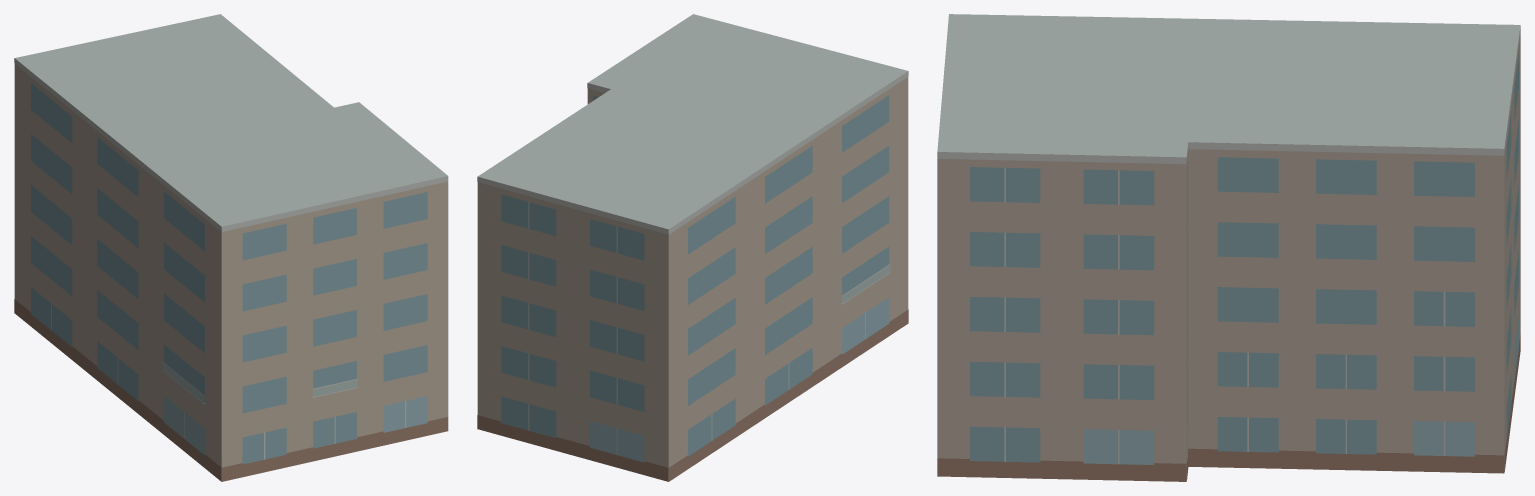
The model's file is survey-upis-32653966.glb.
3 renders of one model, left to right at view 1: azimuth 30°, elevation 25°; view 2: azimuth 150°, elevation 25°; view 3: azimuth 270°, elevation 25°, orthographic. The views are drawn at different scales.
Parts seen in each view (by area): view 1: survey-upis-32653966.tmp; view 2: survey-upis-32653966.tmp; view 3: survey-upis-32653966.tmp.
Part boxes in pixels (bbox=[...]): survey-upis-32653966.tmp: bbox=[14, 14, 448, 481]; survey-upis-32653966.tmp: bbox=[477, 14, 908, 481]; survey-upis-32653966.tmp: bbox=[937, 14, 1520, 481].
Bounding box in the file's own units: 10.9 × 11.5 × 18.75.
